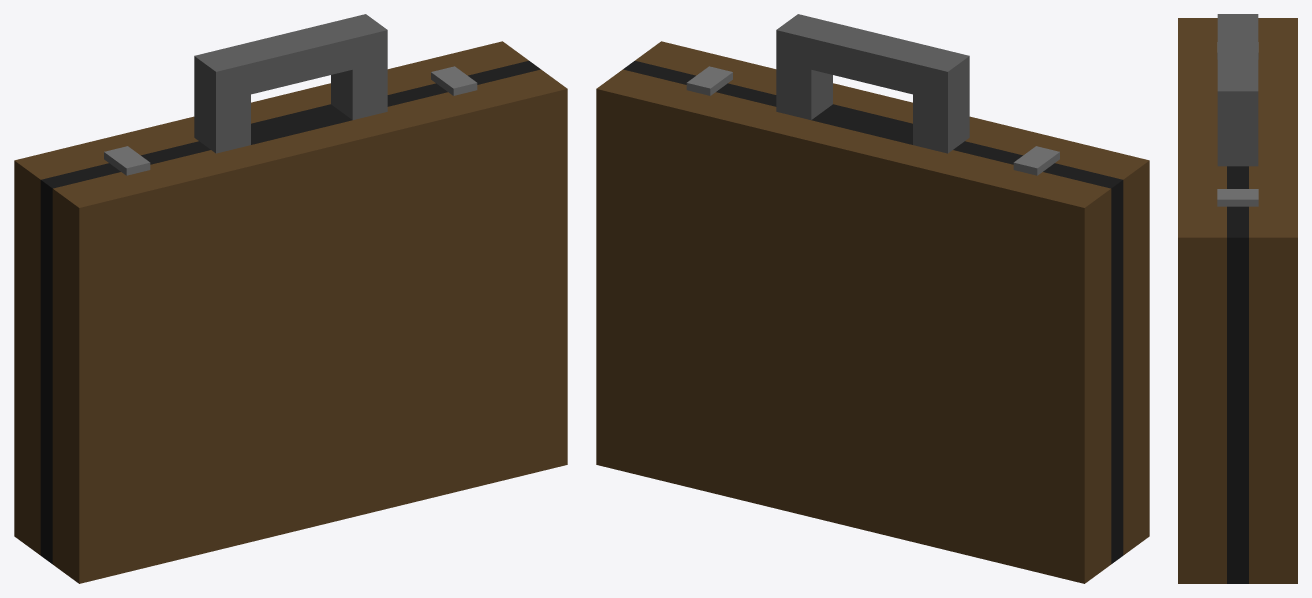
Rendered from Briefcase.fbx.
The picture shows the model from 3 angles, left to right: view 1: azimuth 30°, elevation 25°; view 2: azimuth 150°, elevation 25°; view 3: azimuth 270°, elevation 25°; orthographic projection. The views are drawn at different scales.
Parts seen in each view (by area): view 1: Briefcase; view 2: Briefcase; view 3: Briefcase.
Part boxes in pixels (x1,y1,x2,y2): Briefcase: [14, 14, 567, 583]; Briefcase: [596, 14, 1149, 583]; Briefcase: [1178, 14, 1297, 583].
Bounding box in the file's own units: 0.7071 × 0.6332 × 0.1631.
